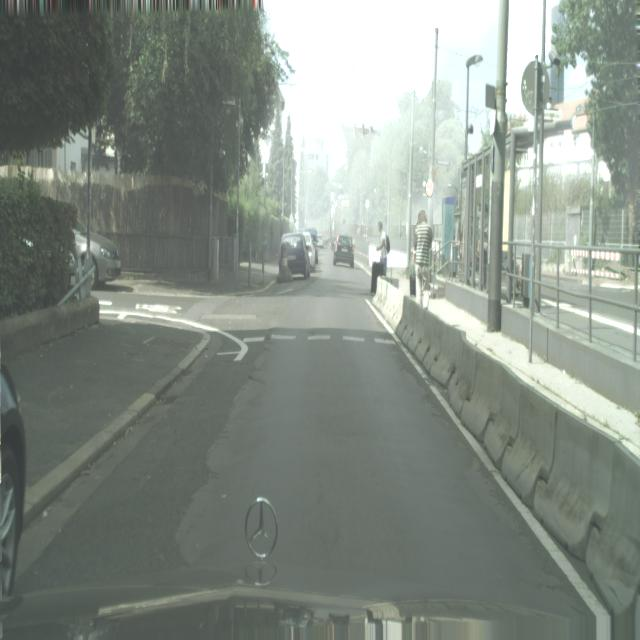bus: (413, 209, 433, 308), (369, 219, 389, 297)
person: (0, 362, 28, 606), (73, 227, 122, 286), (278, 232, 311, 281), (333, 234, 354, 268), (301, 229, 318, 266)
